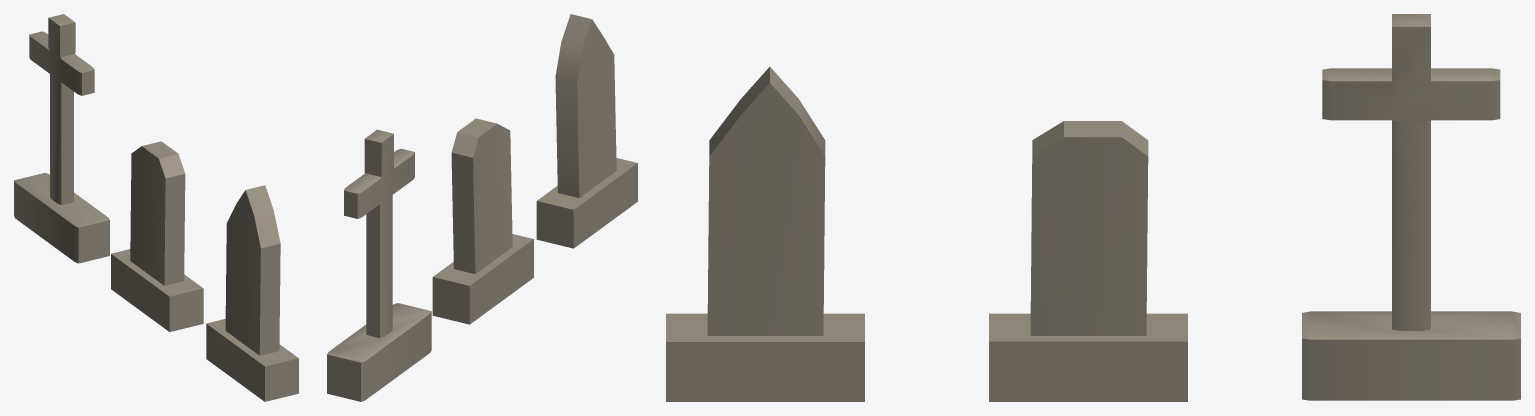
File: Grave.fbx
3 renders of one model, left to right at view 1: azimuth 30°, elevation 25°; view 2: azimuth 150°, elevation 25°; view 3: azimuth 270°, elevation 25°, orthographic. The views are drawn at different scales.
Visible parts, largest first — view 1: Cube.002, Cube.001, Cube; view 2: Cube.002, Cube, Cube.001; view 3: Cube.002, Cube.001, Cube.
Part boxes in pixels (x1,y1,x2,y2): Cube.002: (206,185,298,401); Cube.001: (111,141,203,331); Cube: (14,14,109,263); Cube.002: (536,14,637,248); Cube: (327,129,431,401); Cube.001: (432,118,533,324); Cube.002: (666,66,864,401); Cube.001: (989,121,1187,401); Cube: (1302,14,1520,400).
Bounding box in the file's own units: 200 × 1226 × 2576.
